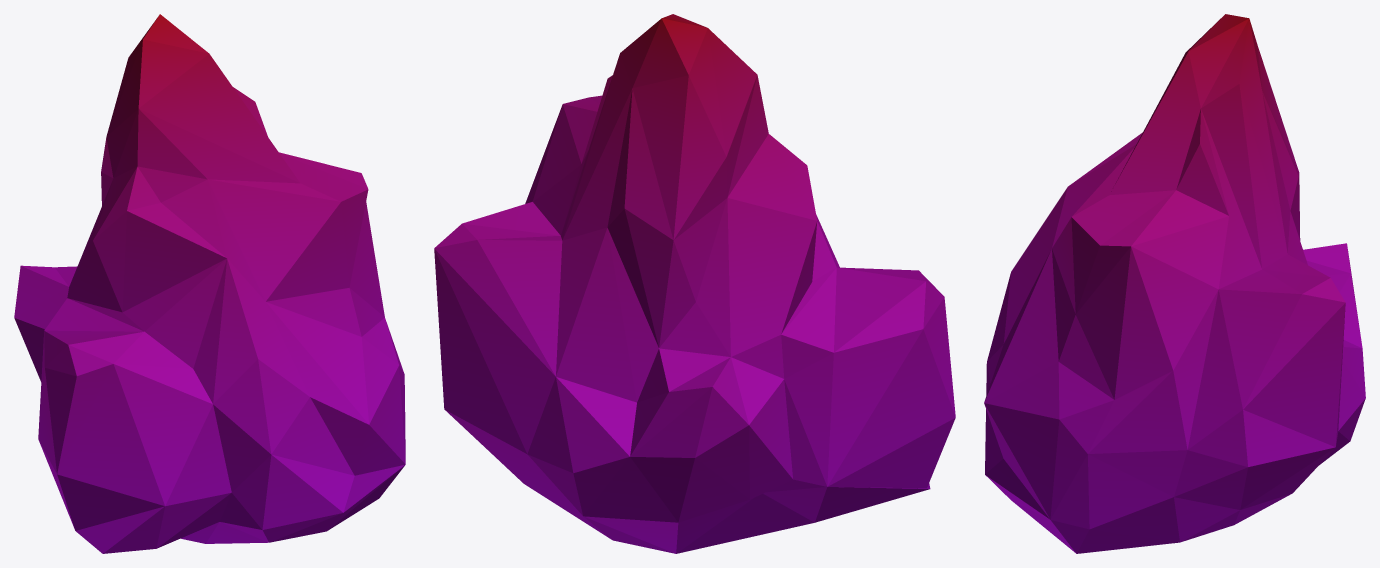
Rendered from SM_Plant_Bush_01.gltf.
3 views of the same model, side by side, from view 1: azimuth 30°, elevation 25°; view 2: azimuth 150°, elevation 25°; view 3: azimuth 270°, elevation 25° (orthographic). The views are drawn at different scales.
Parts seen in each view (by area): view 1: SM_Plant_Bush_01; view 2: SM_Plant_Bush_01; view 3: SM_Plant_Bush_01.
Part boxes in pixels (x1,y1,x2,y2): SM_Plant_Bush_01: [14, 14, 405, 553]; SM_Plant_Bush_01: [434, 14, 955, 553]; SM_Plant_Bush_01: [984, 14, 1365, 553].
Bounding box in the file's own units: 1.61 × 2.04 × 1.41.
